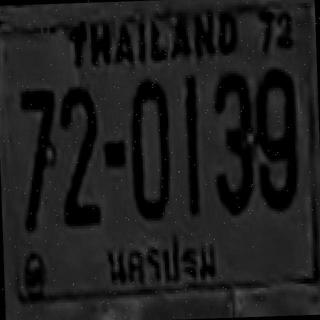N00: (128, 77, 170, 217)
N01: (183, 74, 200, 200)
N02: (58, 85, 100, 204), (59, 109, 100, 225)
N03: (210, 70, 254, 213)
N07: (18, 88, 56, 225)
N09: (253, 68, 297, 208)
P28: (95, 228, 228, 292)
